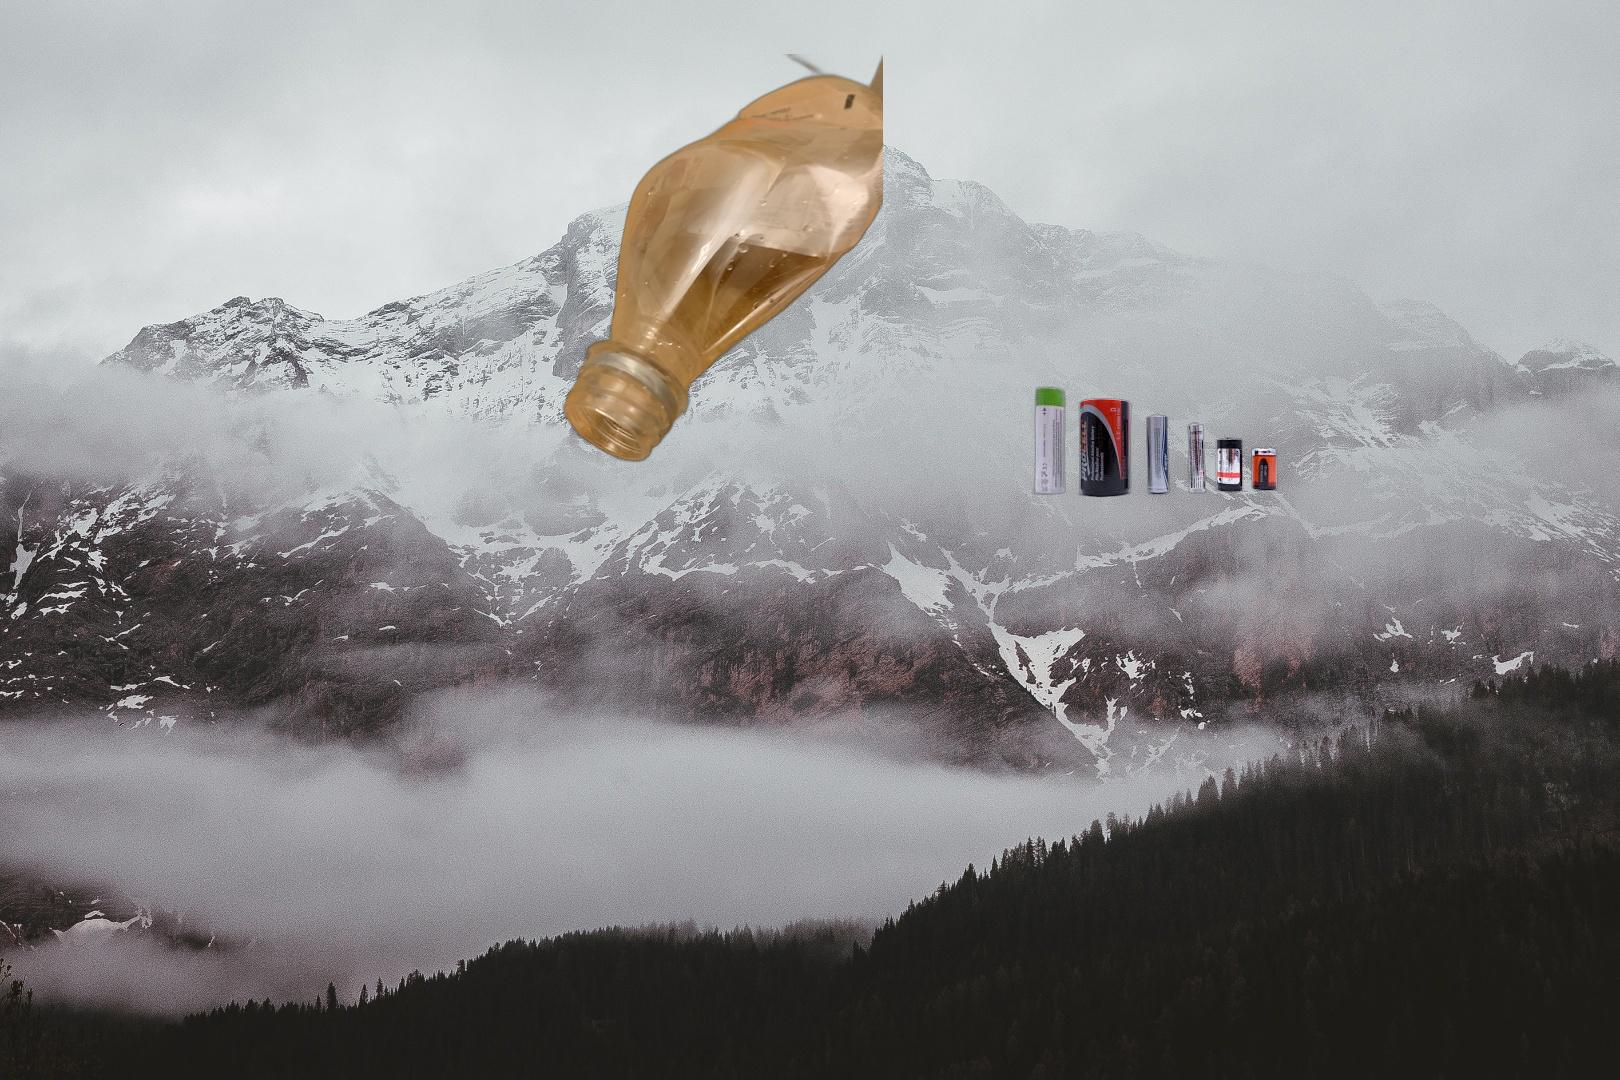battery: (1031, 385, 1278, 500)
plastic-bottles: (560, 54, 884, 466)
